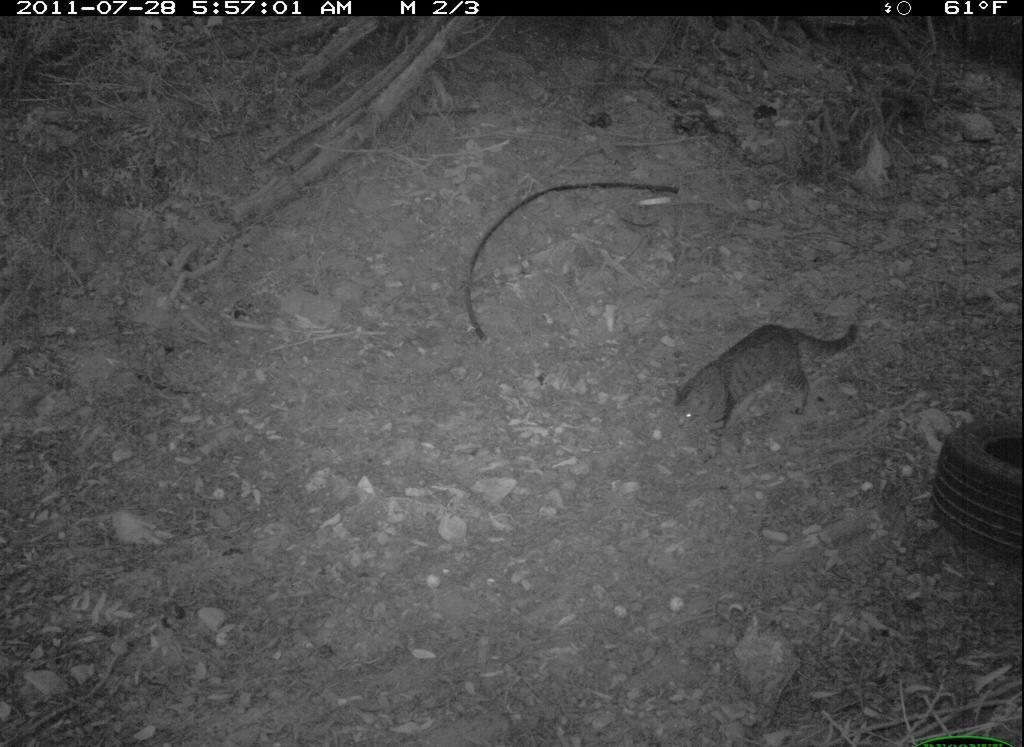cat: (670, 303, 877, 458)
